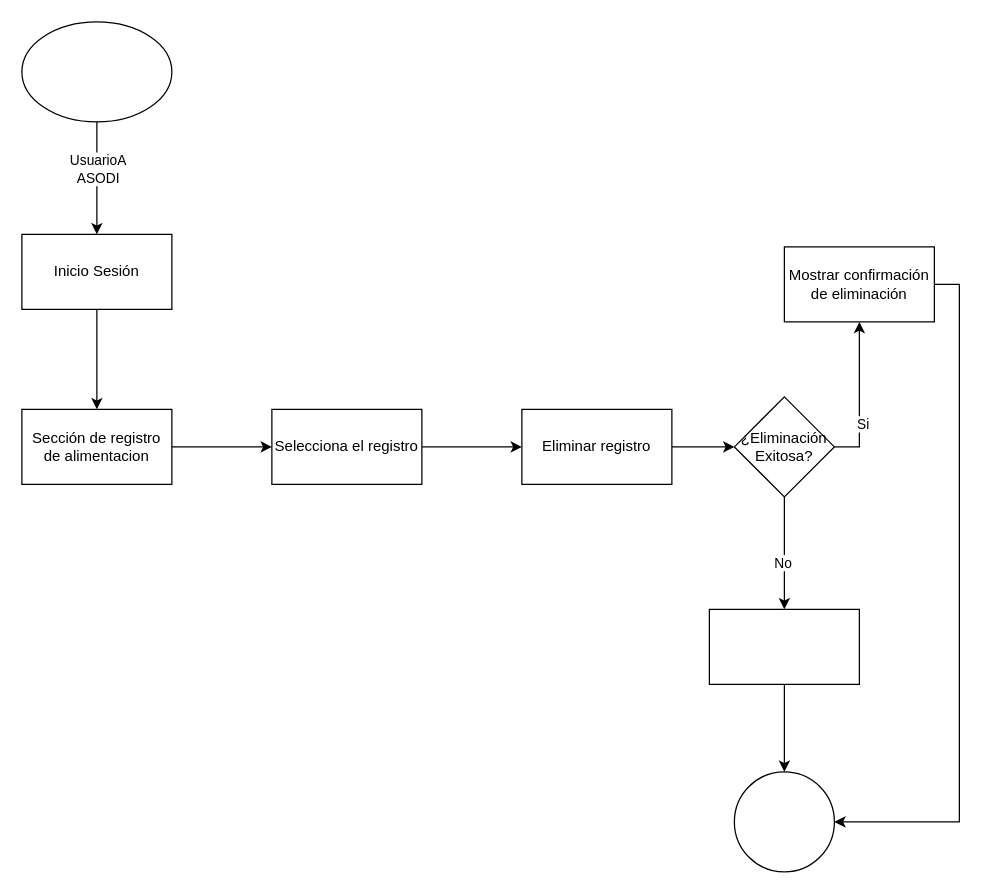
This 991x894 diagram has some shape labels left out. Each missing label, with the box of its shape:
Fin: (733, 771, 834, 872)
Inicio: (21, 21, 172, 122)
Mostrar mensaje de error: (708, 608, 859, 684)
